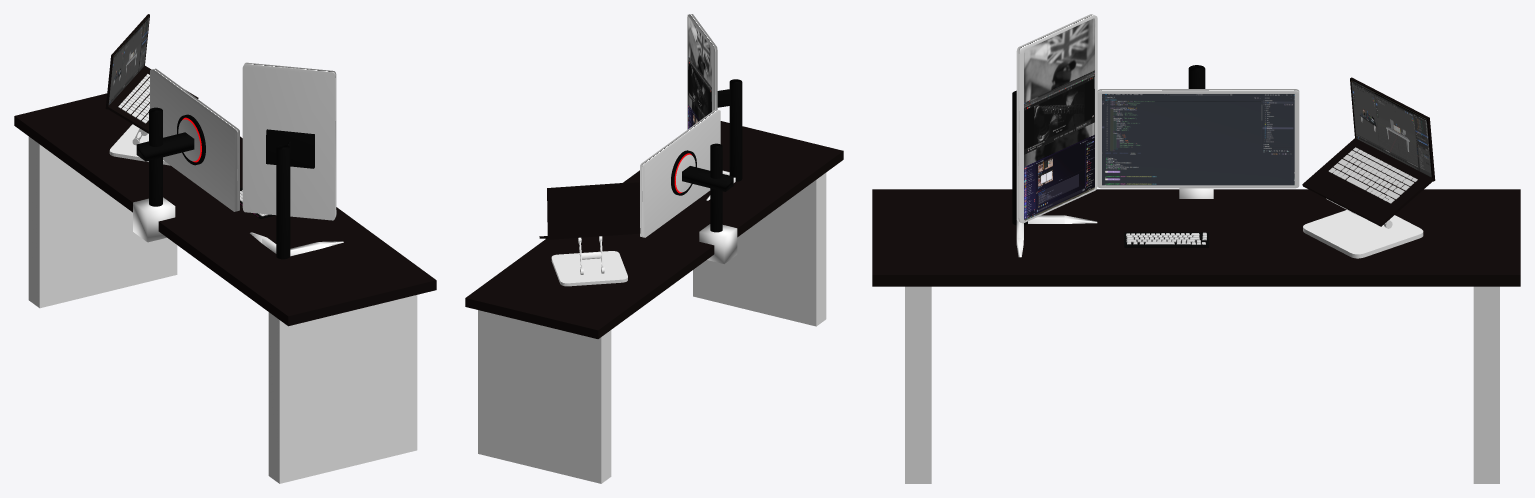
Rendered from personaldesk.glb.
The picture shows the model from 3 angles, left to right: view 1: azimuth 30°, elevation 25°; view 2: azimuth 150°, elevation 25°; view 3: azimuth 270°, elevation 25°; orthographic projection. The views are drawn at different scales.
Parts seen in each view (by area): view 1: Cube.008, Cube.009, Cube.010, Monitor Kiri, Main Monitor, Cube.007, Cylinder.004, Cube.014, Cube.013, Cylinder.006, Cube.015, Cube (+2 smaller); view 2: Cube.008, Cube.010, Cube.009, Cube.007, Main Monitor, Monitor Kiri, Cube.001, Cylinder.004, Cube.013, Cylinder.006, Cube.015, Cube.018; view 3: Cube.008, Main Monitor, Monitor Kiri, Cube.009, Cube.010, Cube.007, Cube, Cube.001, Cylinder.004, Body Keyboard.
Boxes of the visible parts, <box> form: Cube.008: <box>14,93,436,326</box>; Cube.009: <box>268,295,417,483</box>; Cube.010: <box>28,136,177,308</box>; Monitor Kiri: <box>242,62,336,220</box>; Main Monitor: <box>150,68,239,211</box>; Cube.007: <box>105,14,149,109</box>; Cylinder.004: <box>276,144,290,259</box>; Cube.014: <box>266,129,314,168</box>; Cube.013: <box>133,197,175,242</box>; Cylinder.006: <box>149,107,162,206</box>; Cube.015: <box>136,132,194,161</box>; Cube: <box>107,66,198,133</box>; Cube.008: <box>465,121,843,338</box>; Cube.010: <box>478,310,611,483</box>; Cube.009: <box>693,173,826,326</box>; Cube.007: <box>547,182,640,239</box>; Main Monitor: <box>640,109,720,237</box>; Monitor Kiri: <box>687,14,717,129</box>; Cube.001: <box>551,251,627,286</box>; Cylinder.004: <box>729,79,742,181</box>; Cube.013: <box>699,224,737,263</box>; Cylinder.006: <box>710,143,722,232</box>; Cube.015: <box>682,166,733,191</box>; Cube.018: <box>671,150,696,195</box>; Cube.008: <box>872,189,1520,286</box>; Main Monitor: <box>1097,89,1299,188</box>; Monitor Kiri: <box>1016,14,1097,223</box>; Cube.009: <box>905,286,931,483</box>; Cube.010: <box>1473,286,1499,483</box>; Cube.007: <box>1350,77,1435,181</box>; Cube: <box>1302,138,1433,226</box>; Cube.001: <box>1303,210,1423,258</box>; Cylinder.004: <box>1012,90,1027,225</box>; Body Keyboard: <box>1124,232,1208,247</box>.
Bounding box in the file's own units: 4.79 × 10.09 × 14.27.
Materials: 12 (3 with a texture image).
